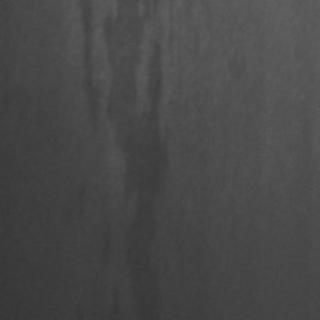inclusion: (87, 0, 171, 310), (66, 0, 114, 142)
